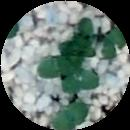Basil: (33, 57, 82, 77), (51, 103, 87, 130), (99, 28, 130, 59), (65, 69, 103, 93), (62, 40, 100, 57), (78, 16, 92, 53)
